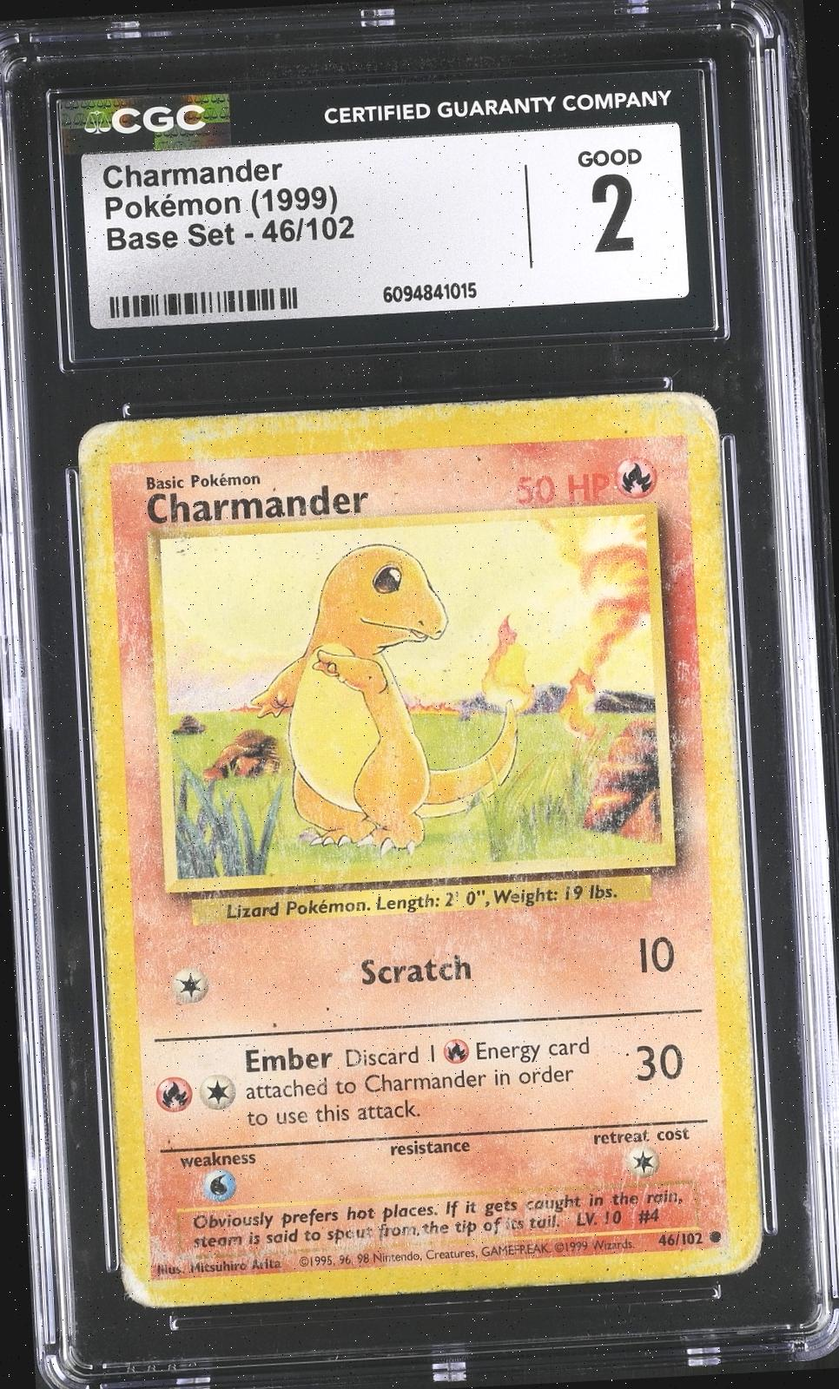card-2UtV: (78, 390, 764, 1310)
